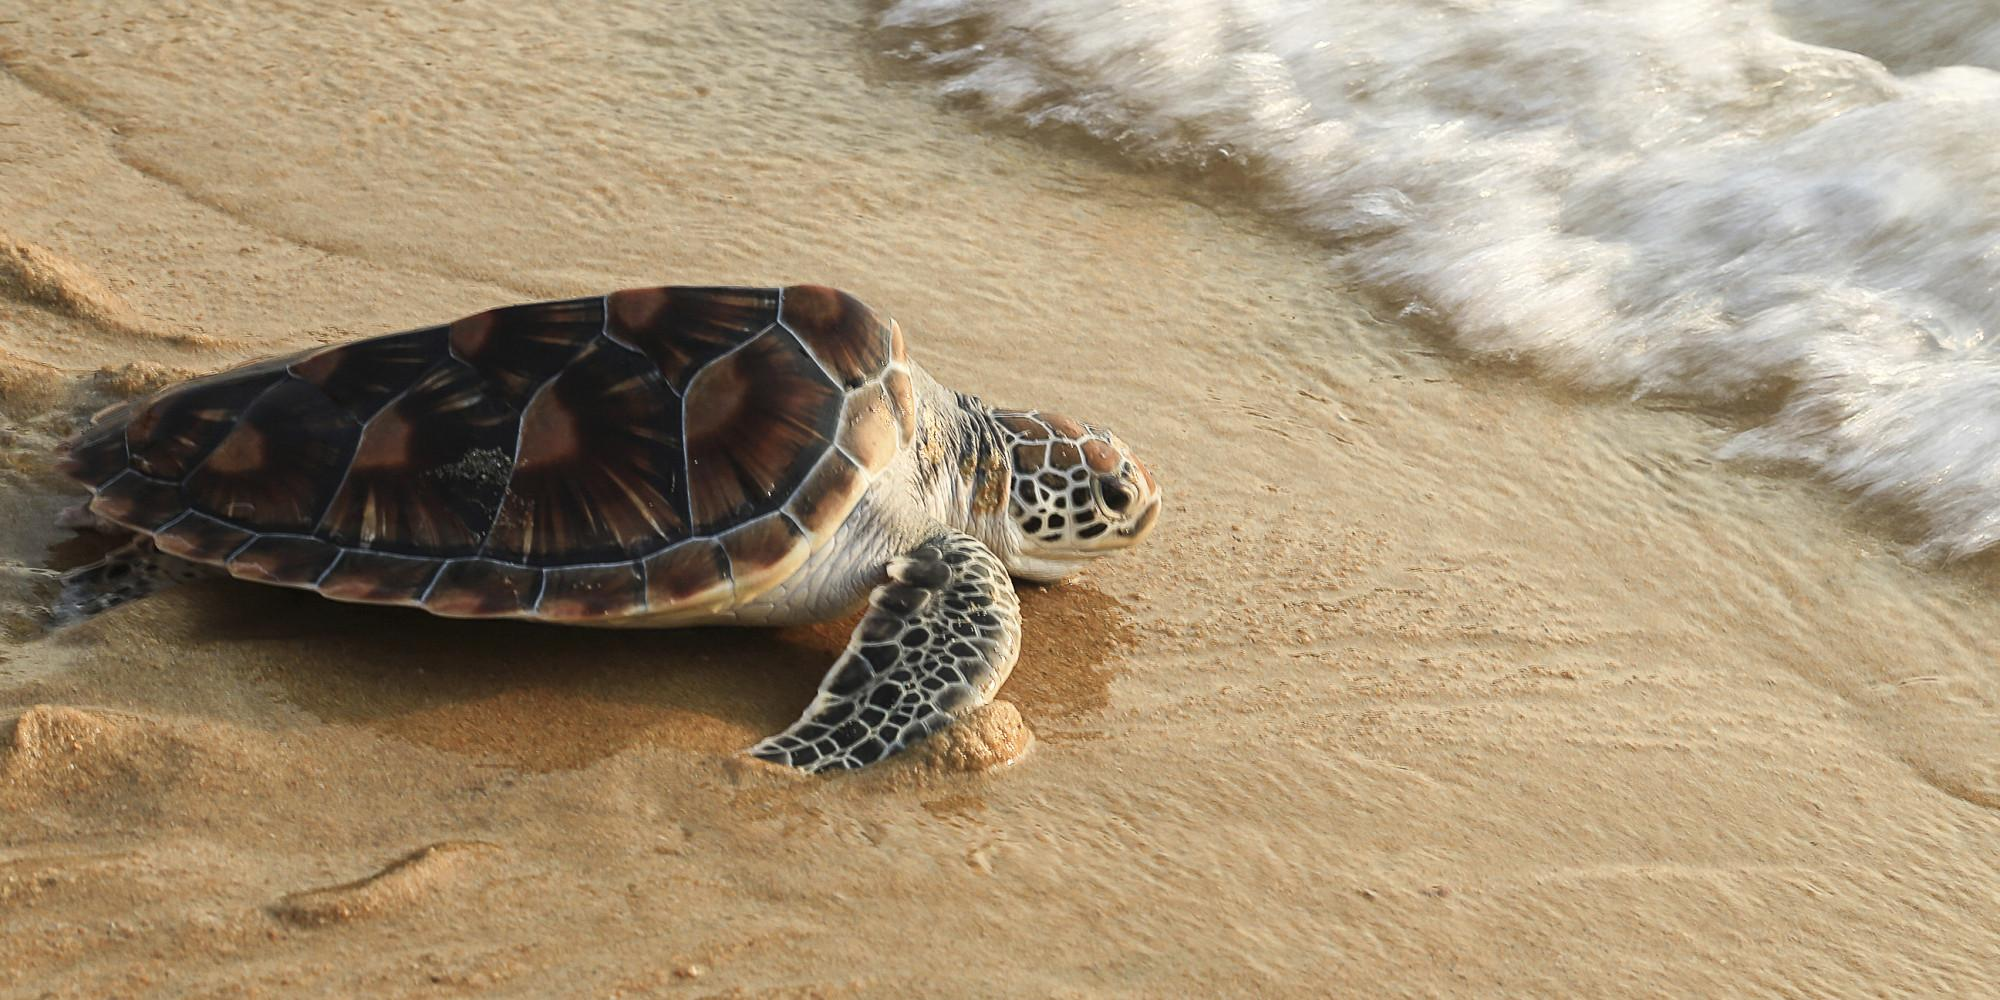turtle: (972, 388, 1177, 577)
